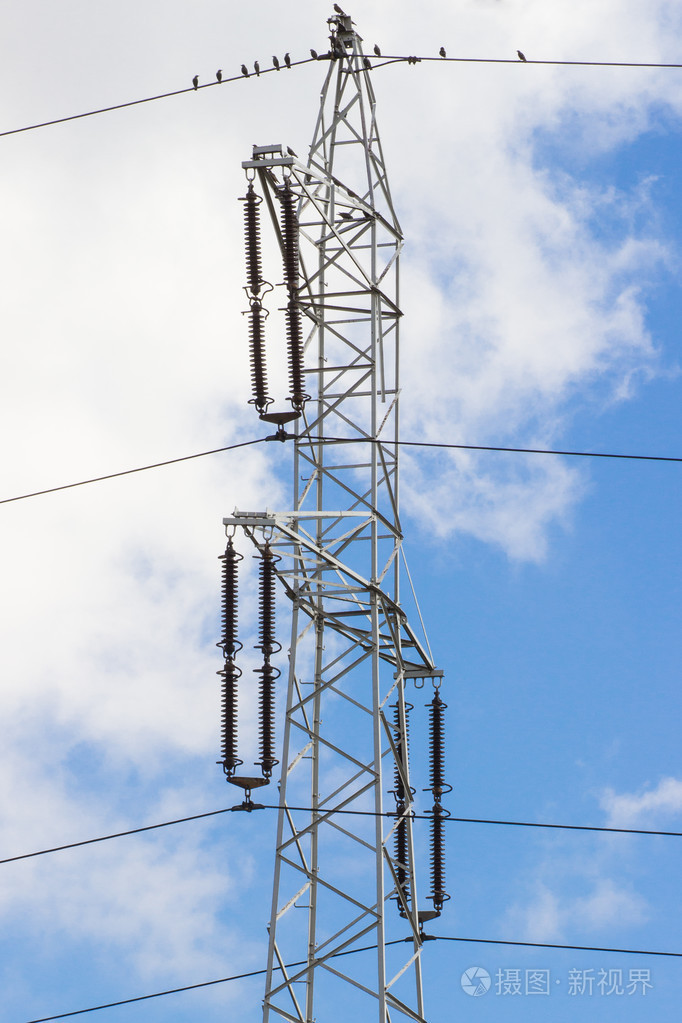insulator: (275, 196, 304, 284), (252, 556, 280, 647), (281, 311, 309, 399), (239, 200, 268, 284), (251, 674, 278, 764), (216, 554, 240, 650), (244, 309, 268, 400), (217, 675, 241, 766), (428, 814, 452, 905), (424, 705, 448, 791), (388, 822, 411, 887)
